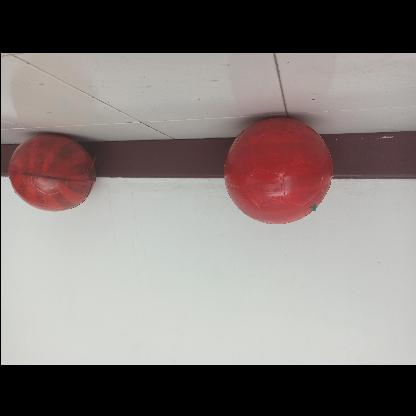red_ball: (224, 118, 330, 224), (8, 131, 92, 215)
